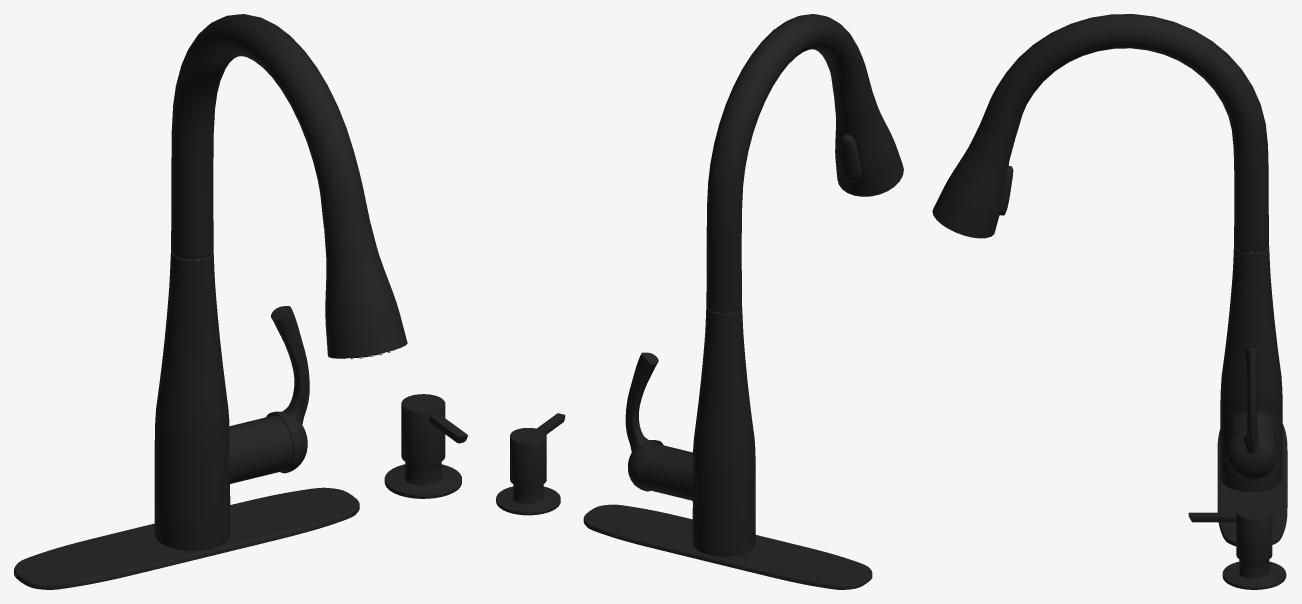
File: ArcPulldownKitchenFaucetBlack.glb
The picture shows the model from 3 angles, left to right: view 1: azimuth 30°, elevation 25°; view 2: azimuth 150°, elevation 25°; view 3: azimuth 270°, elevation 25°; orthographic projection. The views are drawn at different scales.
Parts seen in each view (by area): view 1: 4.001; view 2: 4.001, 4.002; view 3: 4.001.
Boxes of the visible parts, x1,y1,x2,y2 form: 4.001: [14, 14, 467, 589]; 4.001: [496, 14, 903, 589]; 4.002: [839, 134, 862, 181]; 4.001: [932, 14, 1287, 589].
Bounding box in the file's own units: 24.35 × 30.3 × 20.84.
Materials: 3 (3 with a texture image).
